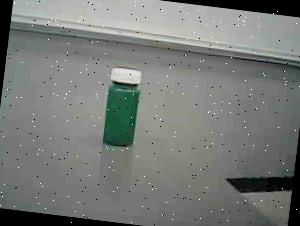Bottle C: (91, 59, 159, 156)
